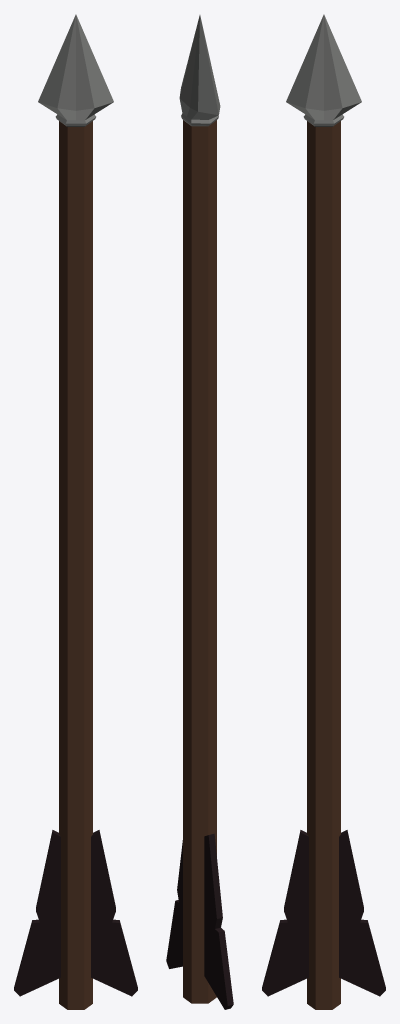
Rendered from Arrow.fbx.
3 views of the same model, side by side, from view 1: azimuth 90°, elevation 25°; view 2: azimuth 210°, elevation 25°; view 3: azimuth 270°, elevation 25° (orthographic).
Visible parts, largest first — view 1: Arrow; view 2: Arrow; view 3: Arrow.
Part boxes in pixels (bbox=[...]): Arrow: bbox=[14, 14, 137, 1009]; Arrow: bbox=[166, 15, 233, 1009]; Arrow: bbox=[262, 14, 385, 1009].
Size of the model in its own units: 2.5 by 84.43 by 9.58.
Materials: 1 (1 with a texture image).
